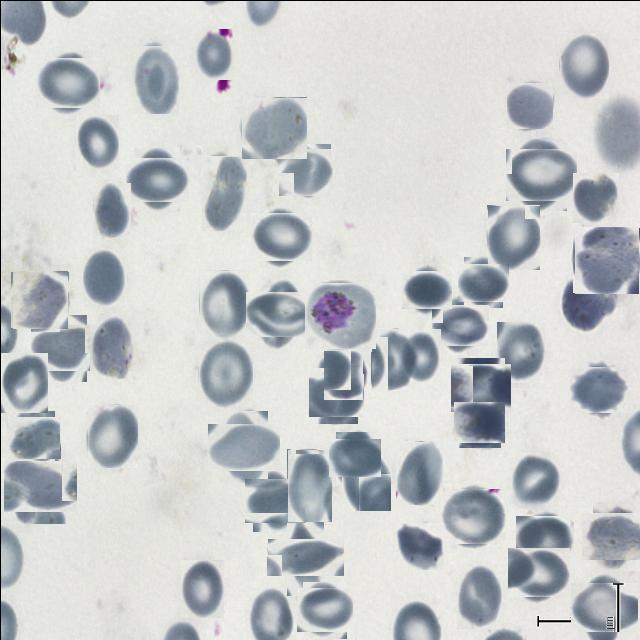red blood cell: (572, 226, 638, 292), (240, 96, 306, 158), (8, 455, 71, 517), (509, 144, 571, 206), (442, 484, 502, 546), (213, 416, 273, 476), (198, 340, 252, 406), (486, 204, 539, 269), (201, 155, 246, 230), (38, 54, 96, 112), (10, 270, 68, 328), (575, 578, 633, 636), (558, 31, 608, 98), (198, 269, 248, 336), (276, 528, 333, 586), (286, 448, 331, 521), (86, 403, 137, 467), (340, 446, 390, 510), (251, 285, 307, 342), (35, 319, 91, 376), (132, 44, 178, 113), (510, 543, 566, 599), (586, 506, 640, 564), (252, 209, 308, 264), (557, 279, 614, 333), (394, 440, 442, 504), (452, 360, 508, 414), (496, 321, 544, 382), (456, 563, 501, 628), (130, 152, 184, 206), (88, 313, 132, 378), (510, 451, 560, 508), (0, 352, 47, 412), (518, 512, 570, 565), (370, 327, 414, 389), (572, 362, 624, 414), (248, 474, 300, 526), (280, 145, 332, 197), (179, 558, 223, 617), (82, 248, 126, 306), (310, 370, 360, 420), (299, 584, 349, 634), (74, 113, 118, 169), (436, 300, 484, 350), (398, 327, 441, 381), (9, 414, 57, 462), (572, 172, 618, 222), (395, 522, 443, 569), (91, 181, 130, 238), (506, 82, 552, 129), (456, 398, 502, 444), (331, 435, 377, 480), (460, 259, 505, 304), (403, 267, 448, 312), (320, 352, 364, 397), (194, 28, 232, 79)
trophozoite: (304, 280, 374, 350)
